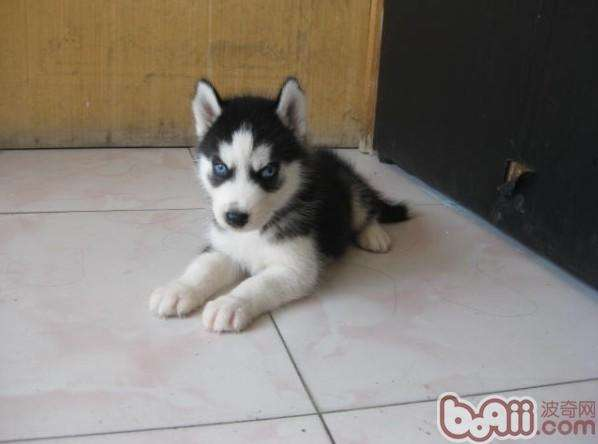dog: (150, 75, 412, 334)
